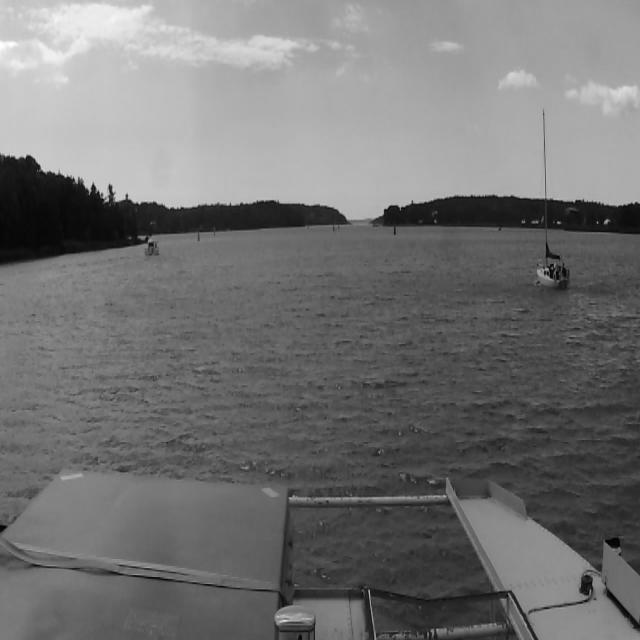buoy: (393, 218, 397, 237), (197, 225, 200, 244), (332, 220, 336, 234), (212, 225, 216, 237), (338, 220, 340, 231)
ship: (531, 99, 573, 293), (144, 234, 162, 266), (497, 223, 503, 234)
